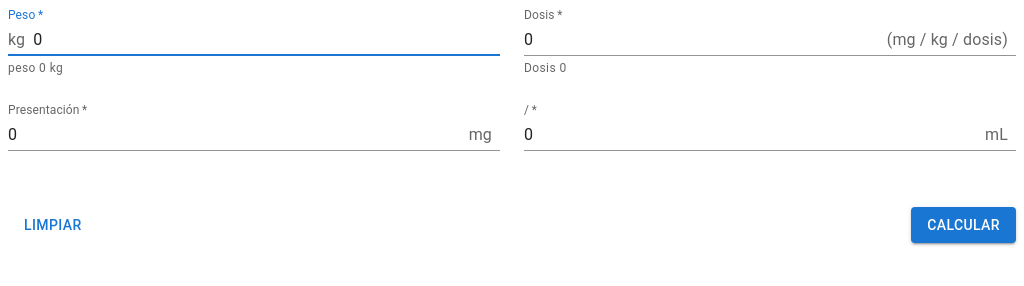
should show error if DOSIS lower than 0.1
Replace the text in the number field with placeholder "Ingrese la dosis" with "0.01": (705, 40) [524,24,887,56]
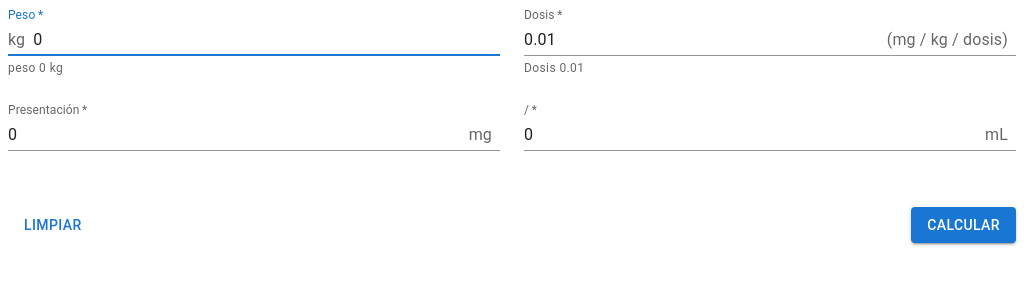
Click the button "Calcular": (964, 225) [911,207,1016,243]
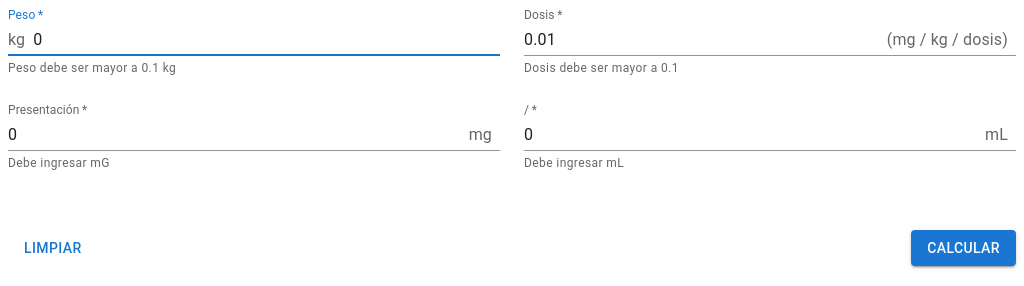
Expected: the text "Dosis debe ser mayor a 0.1" is shown, [524,61,679,75]
